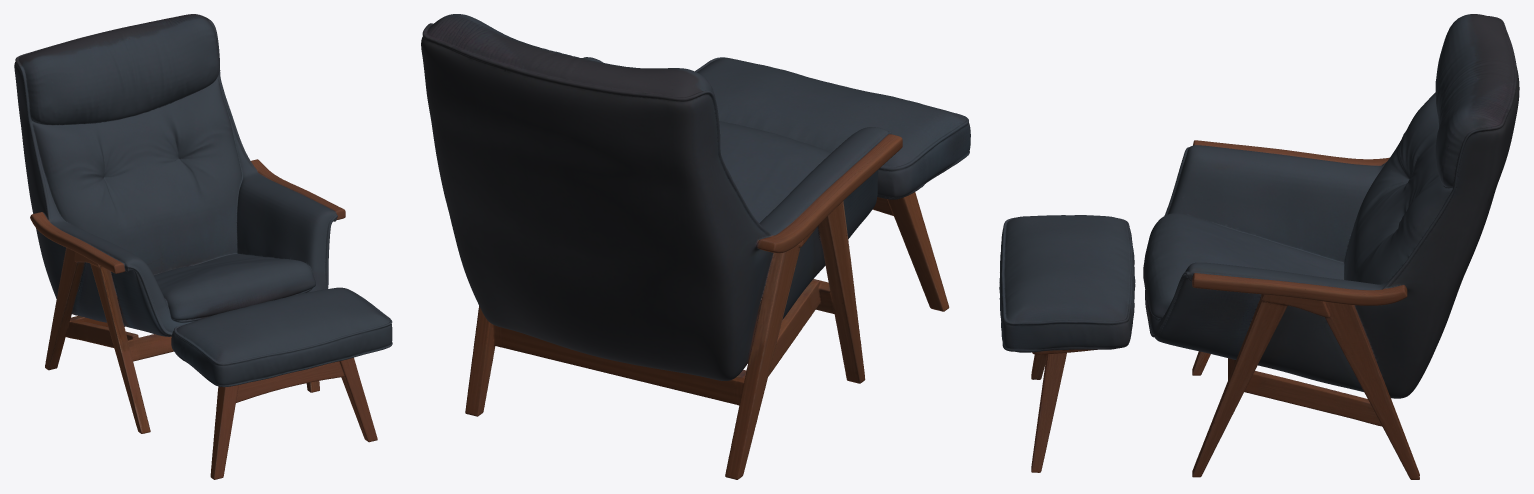
3 views of the same model, side by side, from view 1: azimuth 30°, elevation 25°; view 2: azimuth 150°, elevation 25°; view 3: azimuth 270°, elevation 25° (orthographic). The views are drawn at different scales.
Parts seen in each view (by area): view 1: Mesh_0.001; view 2: Mesh_0.001; view 3: Mesh_0.001.
Boxes of the visible parts, x1=… form: Mesh_0.001: x1=14, y1=14, x2=392, y2=479; Mesh_0.001: x1=421, y1=14, x2=970, y2=479; Mesh_0.001: x1=999, y1=14, x2=1519, y2=479.
Size of the model in its own units: 0.8272 by 1 by 1.31.
1 material, 1 textured.
